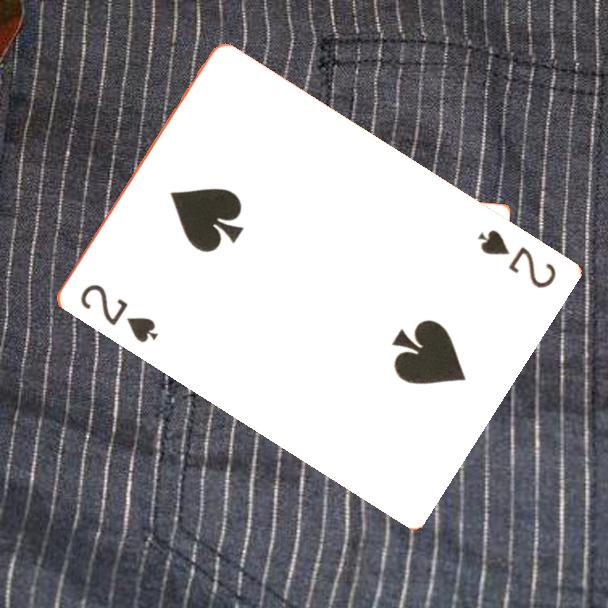s02: (473, 226, 559, 292), (75, 280, 160, 346)
